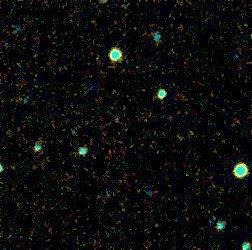star: (166, 118, 196, 148)
